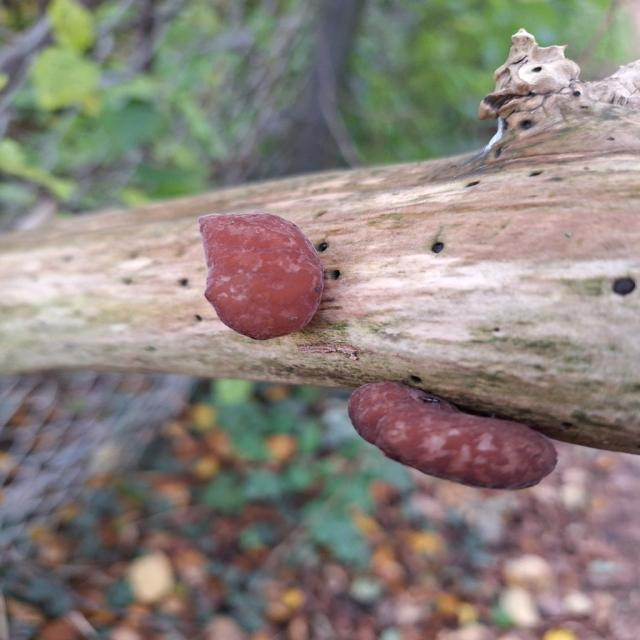Matang: (333, 371, 574, 496), (193, 207, 332, 341)
